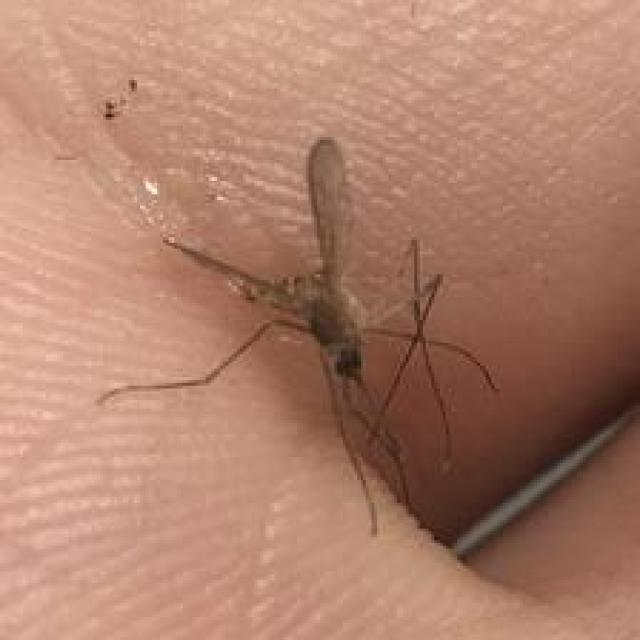Culex: (94, 134, 500, 537)
